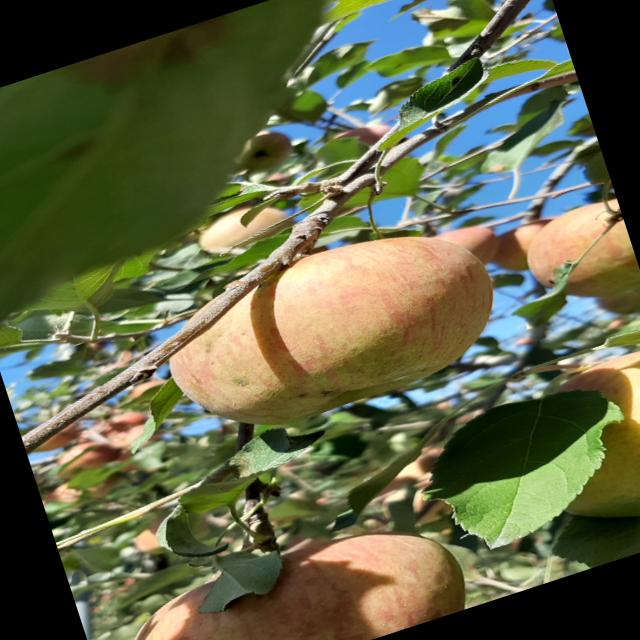fresh: (136, 202, 514, 466)
